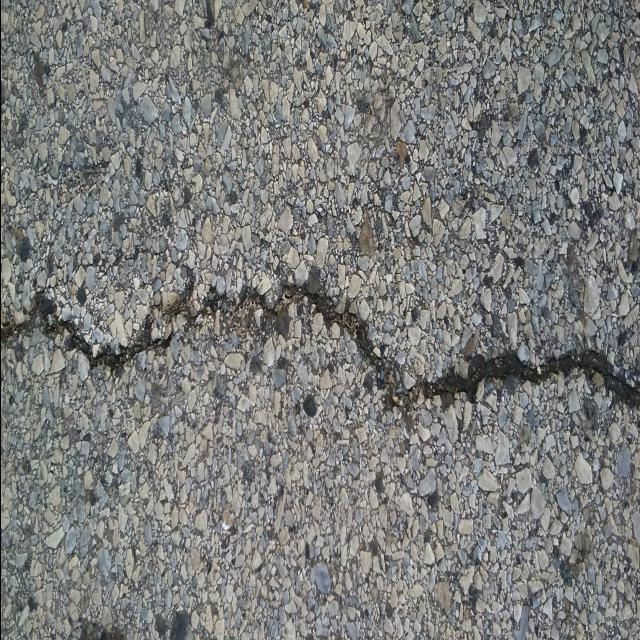Crack: (0, 276, 640, 410)
